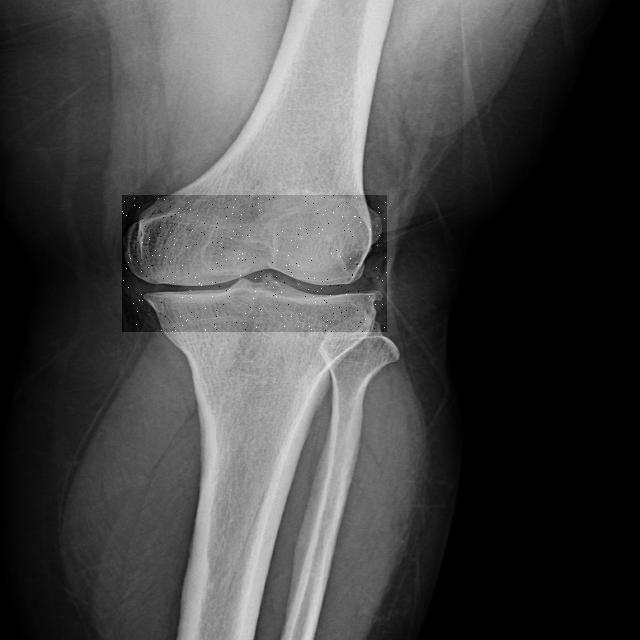osteo: (122, 195, 387, 332)
